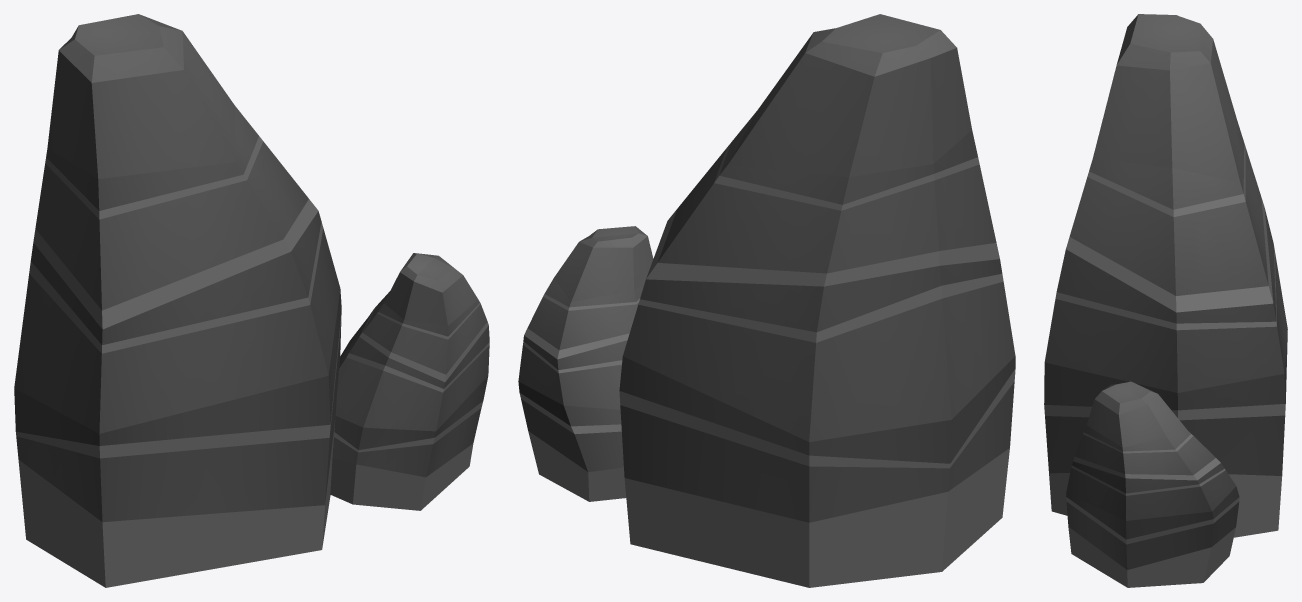
File: Runestrife-Land-Stone2.fbx
The picture shows the model from 3 angles, left to right: view 1: azimuth 30°, elevation 25°; view 2: azimuth 150°, elevation 25°; view 3: azimuth 270°, elevation 25°; orthographic projection. The views are drawn at different scales.
Parts seen in each view (by area): view 1: Stone; view 2: Stone; view 3: Stone.
Part boxes in pixels (bbox=[...]): Stone: bbox=[14, 14, 489, 587]; Stone: bbox=[518, 14, 1015, 587]; Stone: bbox=[1044, 14, 1287, 587].
Bounding box in the file's own units: 193 × 213 × 111.
